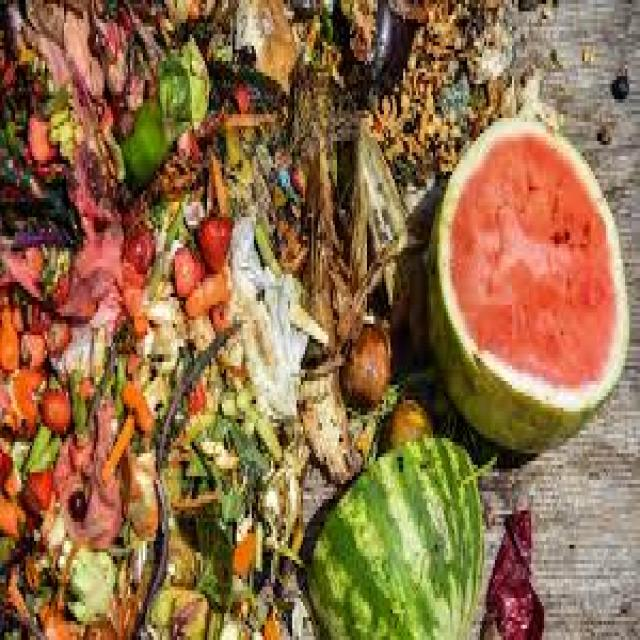food_waste: (1, 11, 539, 605)
